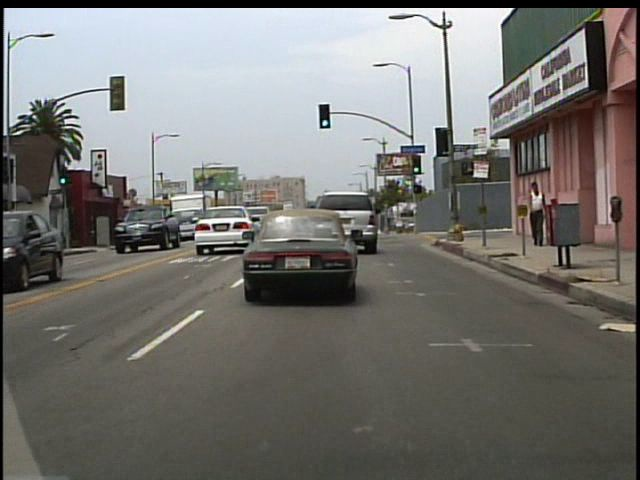person: (525, 176, 555, 249)
